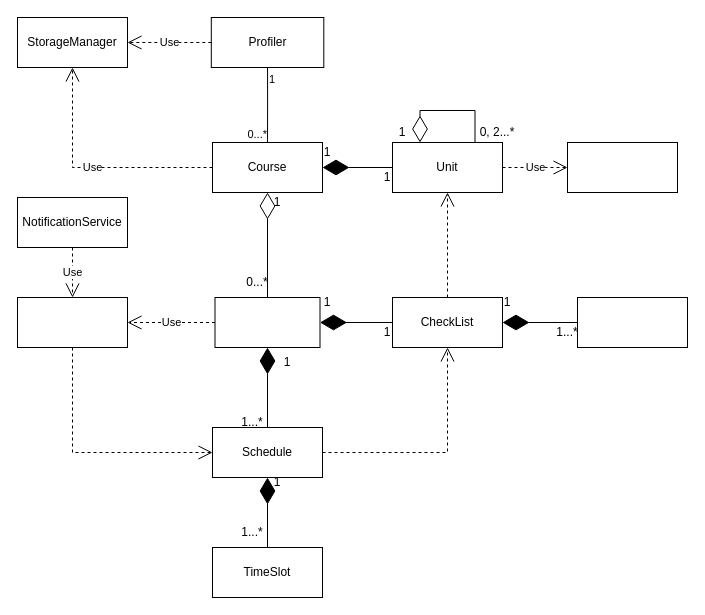
This 705x615 diagram has some shape labels left out. The shapes that lost their labels are listed below. From the top down, each one's centre as x and y in pixels, then its label:
the point at 622,167: OCRParser
the point at 72,322: Scheduler
the point at 267,322: Plan
the point at 632,322: Task
